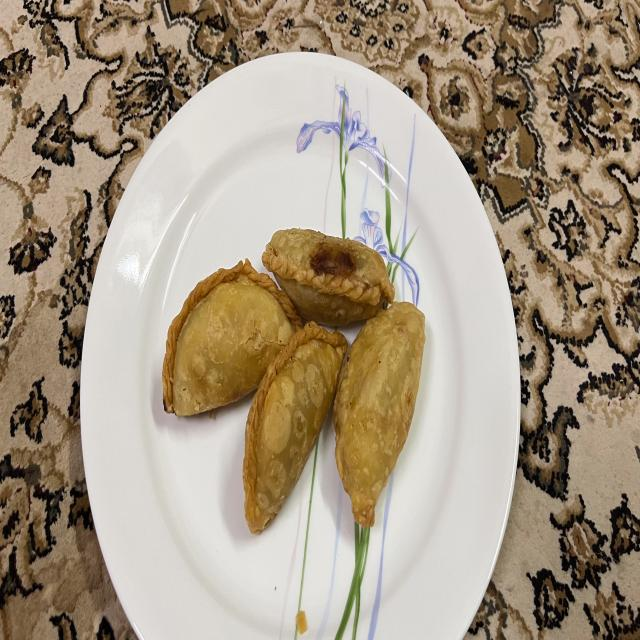karipap: (242, 322, 348, 533), (162, 260, 302, 416), (334, 302, 425, 527), (262, 229, 395, 327)
